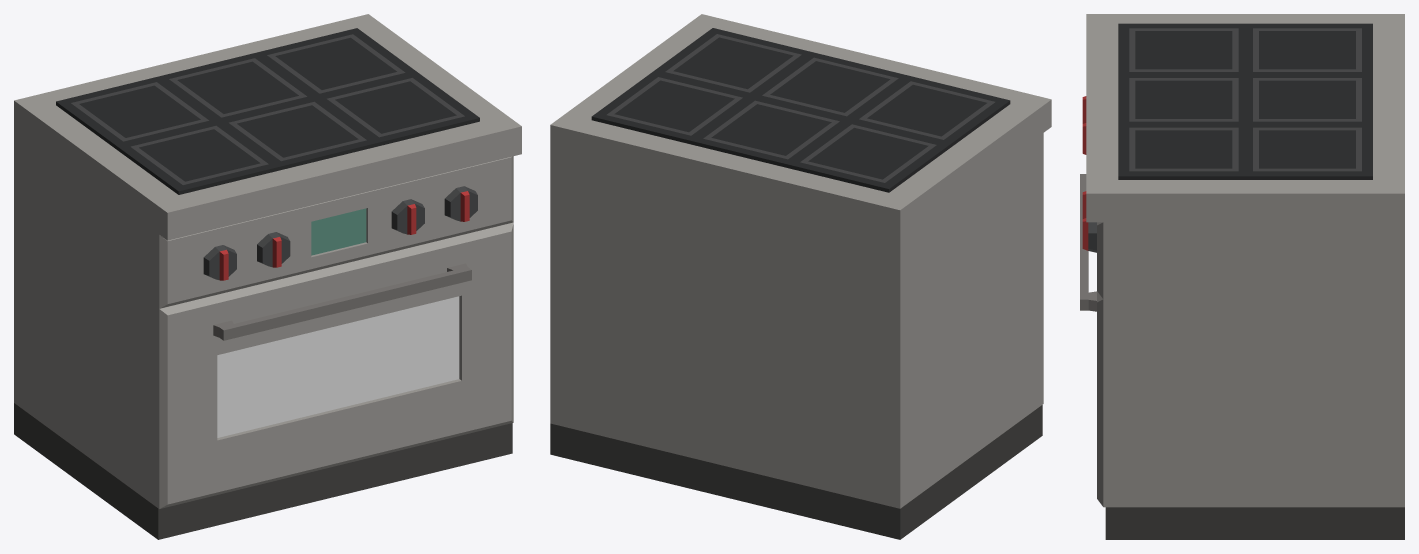
Rendered from SM_Props_Interior_House_Kitchen_Oven.fbx.
The picture shows the model from 3 angles, left to right: view 1: azimuth 30°, elevation 25°; view 2: azimuth 150°, elevation 25°; view 3: azimuth 270°, elevation 25°; orthographic projection. The views are drawn at different scales.
Visible parts, largest first — view 1: SM_Props_Interior_House_Kitchen_Oven, SM_Props_Interior_House_Kitchen_Oven_Door; view 2: SM_Props_Interior_House_Kitchen_Oven, SM_Props_Interior_House_Kitchen_Oven_Door; view 3: SM_Props_Interior_House_Kitchen_Oven, SM_Props_Interior_House_Kitchen_Oven_Door.
Part boxes in pixels (x1,y1,x2,y2): SM_Props_Interior_House_Kitchen_Oven: [14, 14, 521, 539]; SM_Props_Interior_House_Kitchen_Oven_Door: [157, 222, 513, 508]; SM_Props_Interior_House_Kitchen_Oven: [550, 14, 1051, 539]; SM_Props_Interior_House_Kitchen_Oven_Door: [1041, 206, 1043, 404]; SM_Props_Interior_House_Kitchen_Oven: [1082, 14, 1404, 539]; SM_Props_Interior_House_Kitchen_Oven_Door: [1080, 174, 1107, 507].
Size of the model in its own units: 100 by 91 by 76.5.
